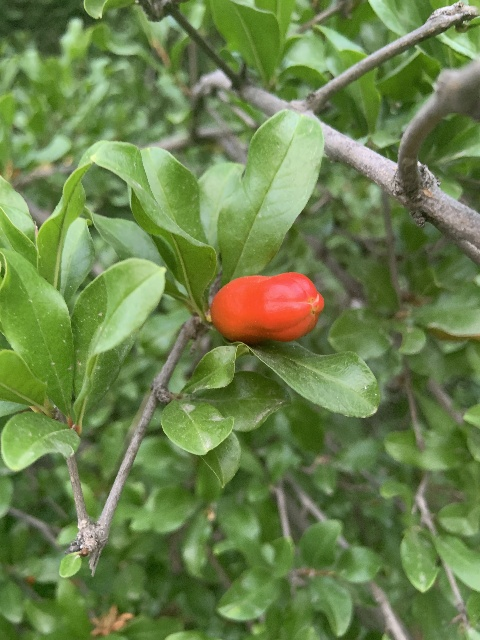bud: (211, 270, 324, 345)
